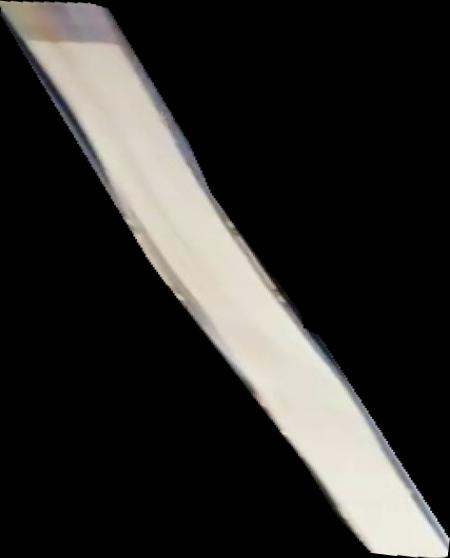backward: (1, 1, 450, 558)
